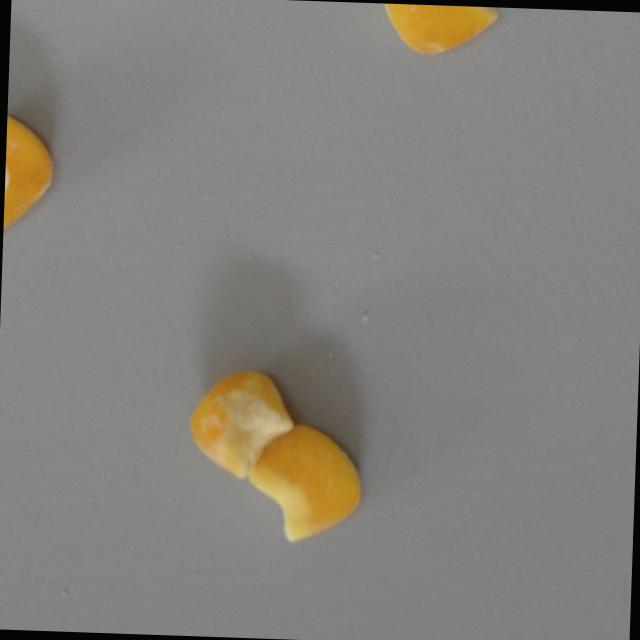no_canjicado: (244, 420, 363, 542), (376, 2, 498, 55)
pelicula: (187, 365, 296, 479), (3, 108, 58, 237)
